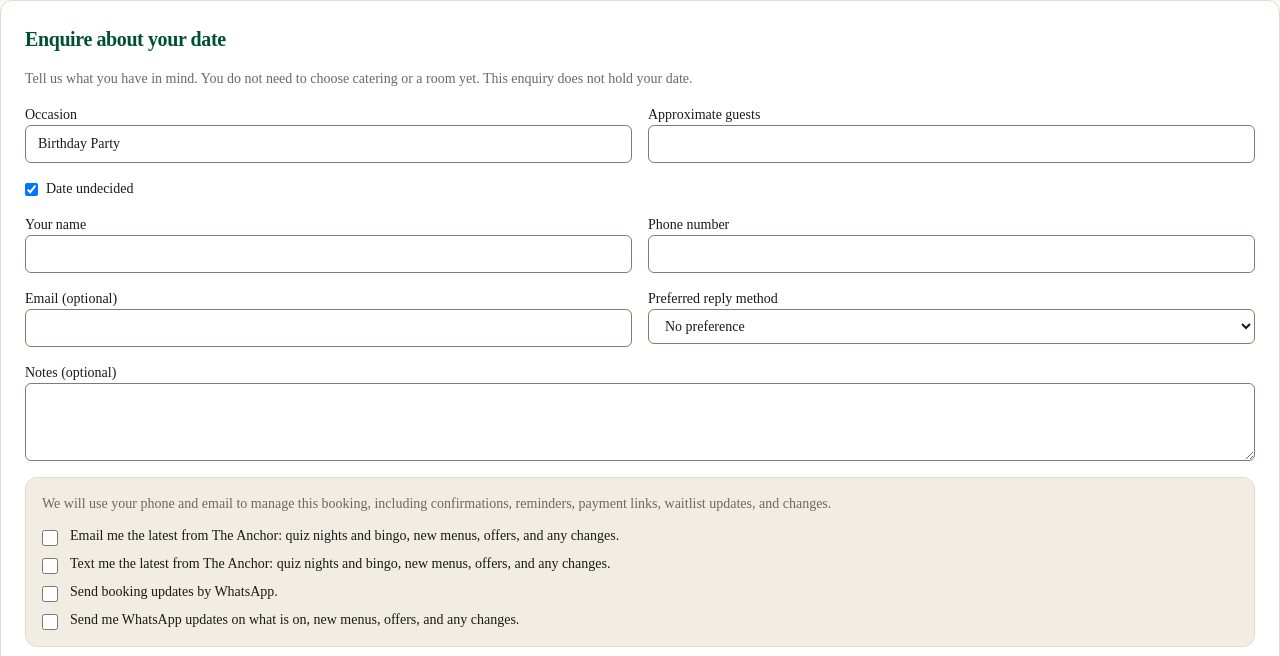
Test: bot rejection remains a recoverable error and never confirms receipt
The image size is (1280, 656).
Type "250" into the number field labelled "Approximate guests" at (952, 144), box [648, 125, 1255, 163]
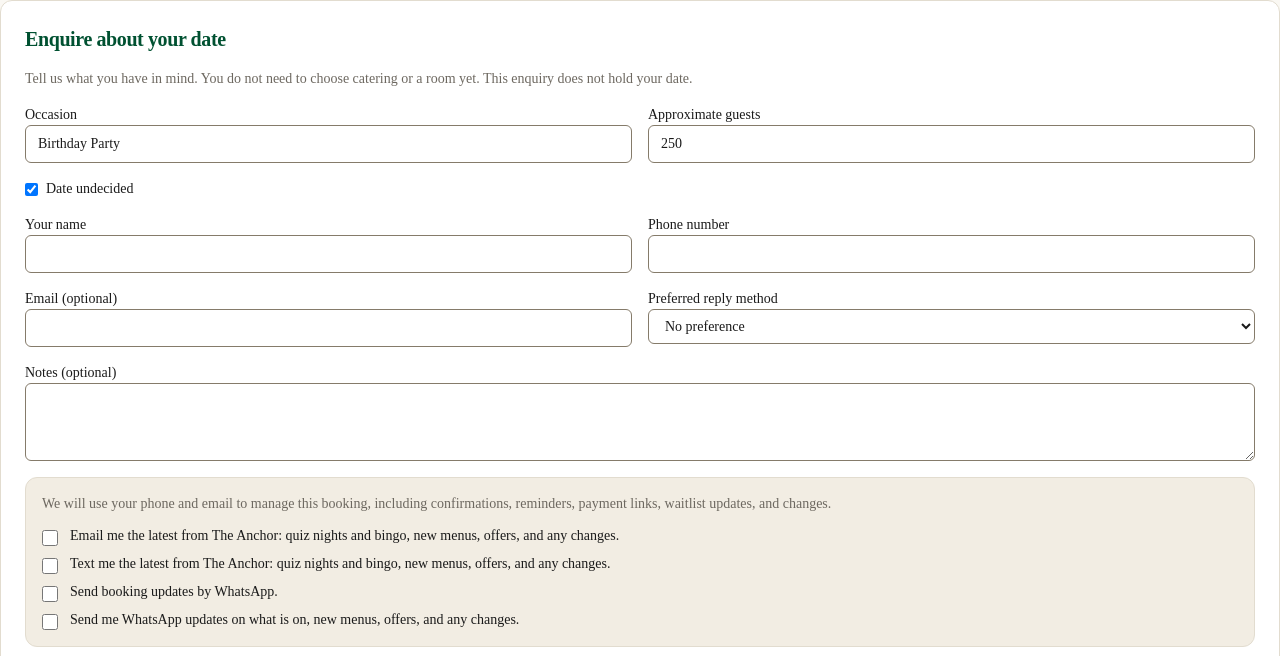
Type "Test Guest" into the field labelled "Your name" at (328, 254), box [25, 235, 632, 273]
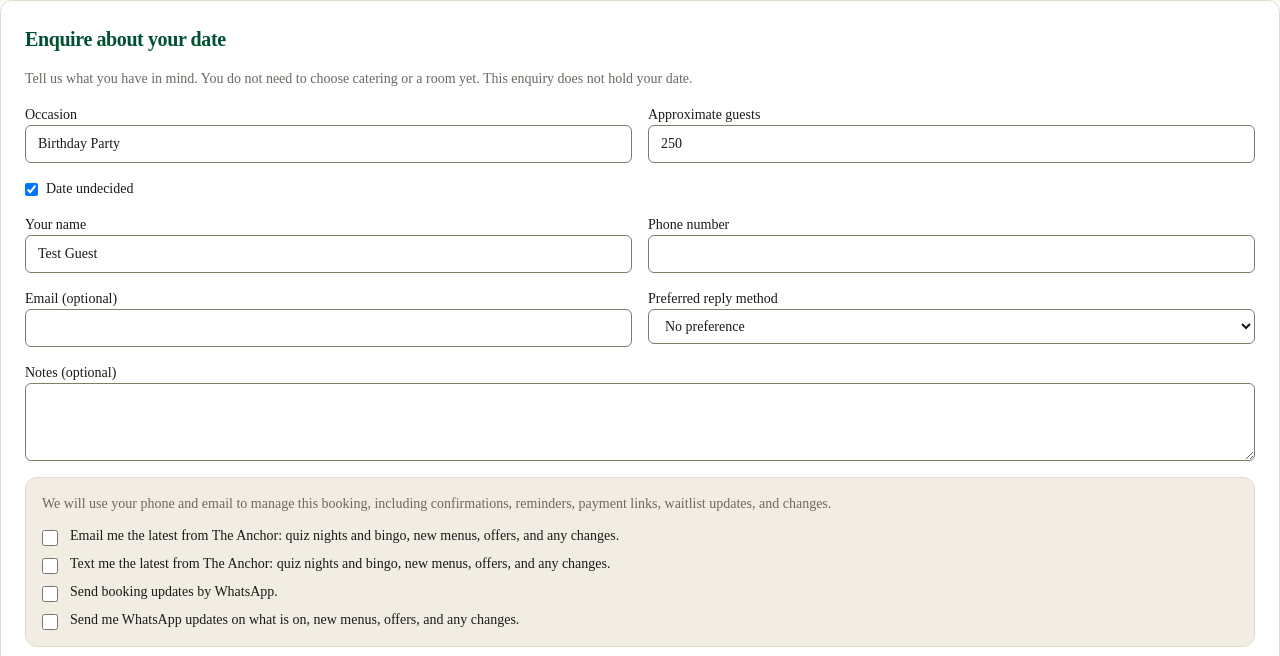
Type "+447700900000" into the field labelled "Phone number" at (952, 254), box [648, 235, 1255, 273]
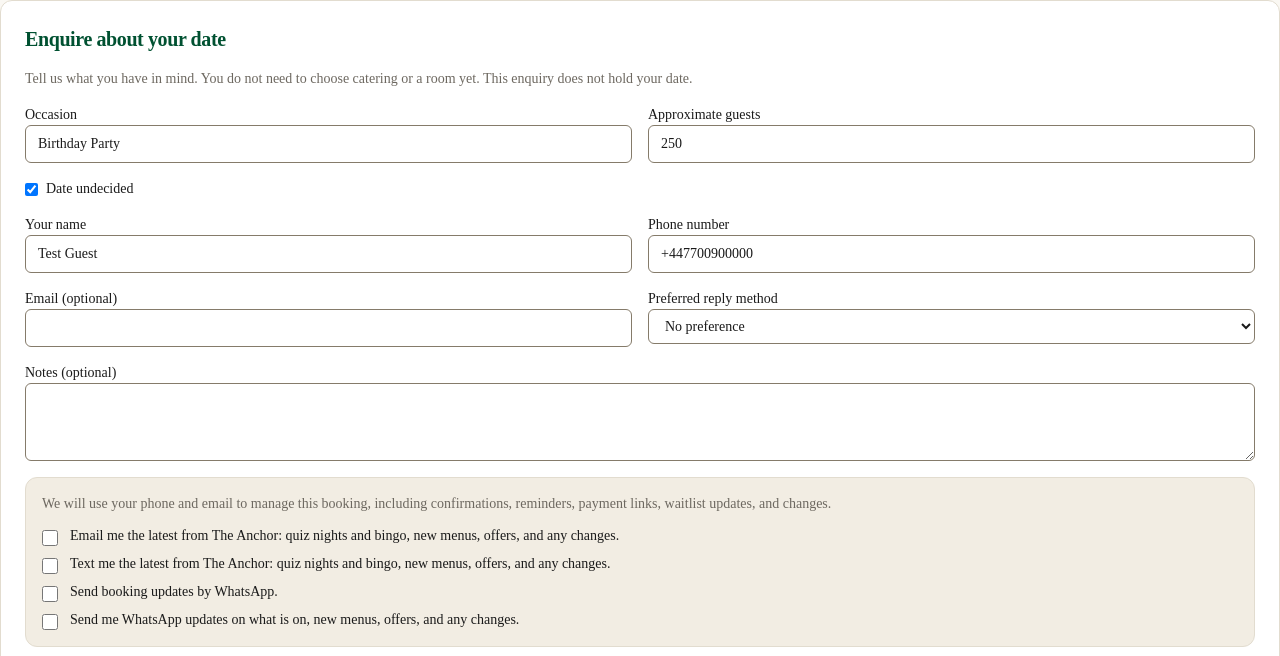
Submit the form named "Short private hire enquiry"
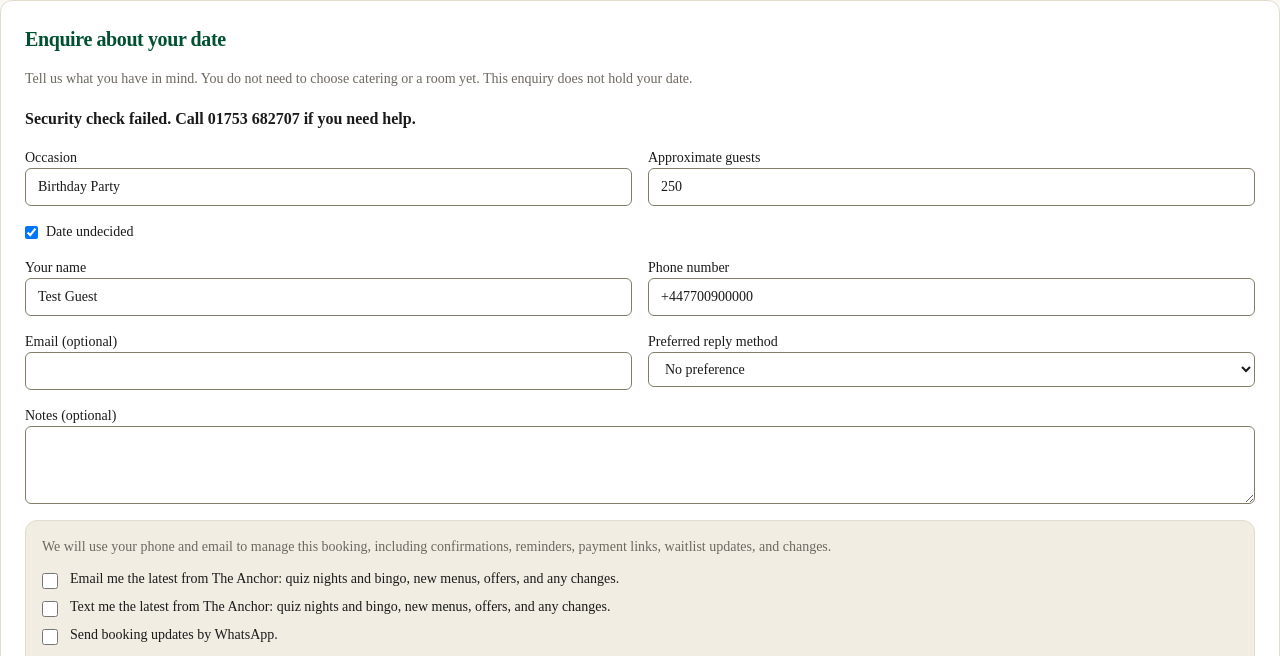
Now the message shows "Security check failed", box [25, 110, 416, 127]
